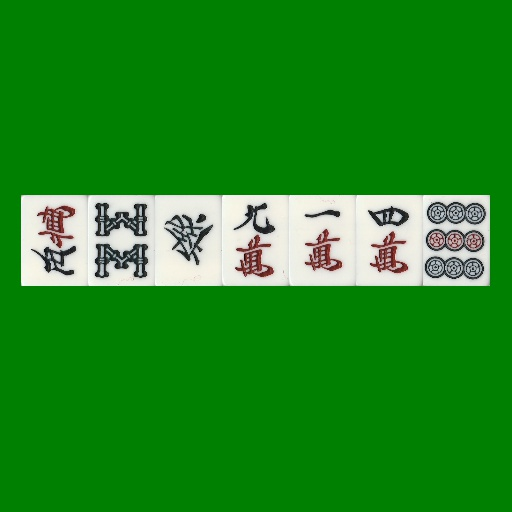1m: (289, 195, 356, 286)
4m: (356, 195, 423, 286)
5m: (21, 195, 88, 286)
8s: (88, 195, 155, 286)
9m: (222, 195, 289, 286)
9p: (423, 195, 490, 286)
hatsu: (155, 195, 222, 286)
